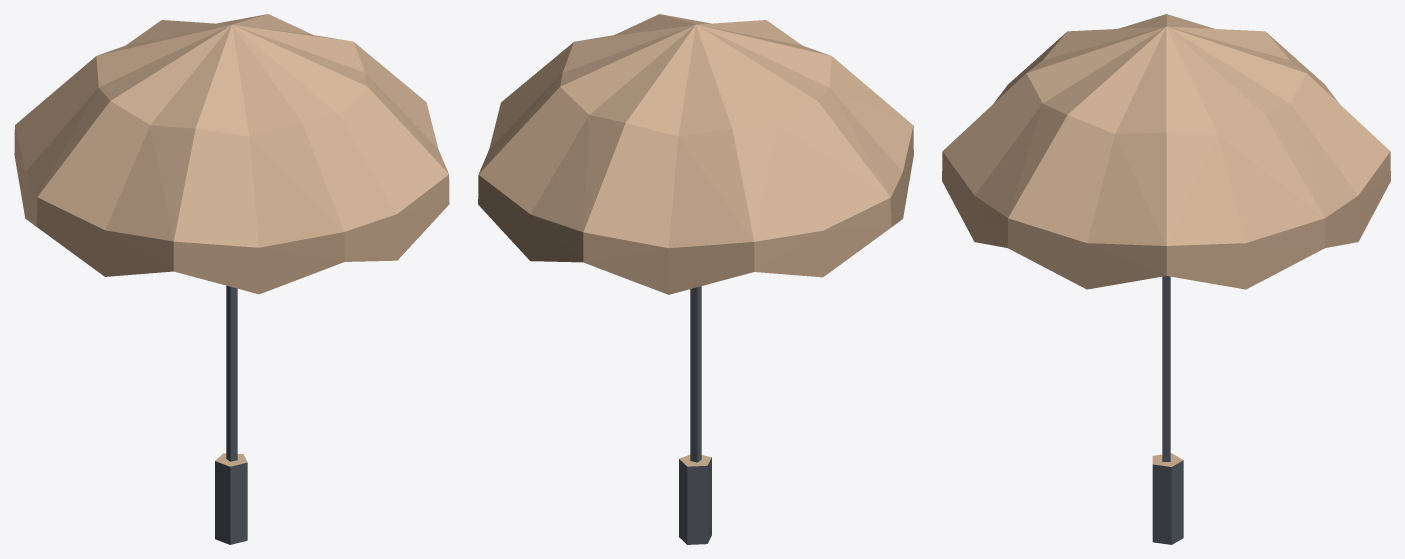
File: RoundUmbrella.fbx
The picture shows the model from 3 angles, left to right: view 1: azimuth 30°, elevation 25°; view 2: azimuth 150°, elevation 25°; view 3: azimuth 270°, elevation 25°; orthographic projection.
Parts seen in each view (by area): view 1: RoundUmbrella; view 2: RoundUmbrella; view 3: RoundUmbrella.
Boxes of the visible parts, x1=… form: RoundUmbrella: x1=14, y1=14, x2=449, y2=544; RoundUmbrella: x1=478, y1=14, x2=913, y2=544; RoundUmbrella: x1=942, y1=14, x2=1390, y2=544.
Bounding box in the file's own units: 206 × 258 × 206.
